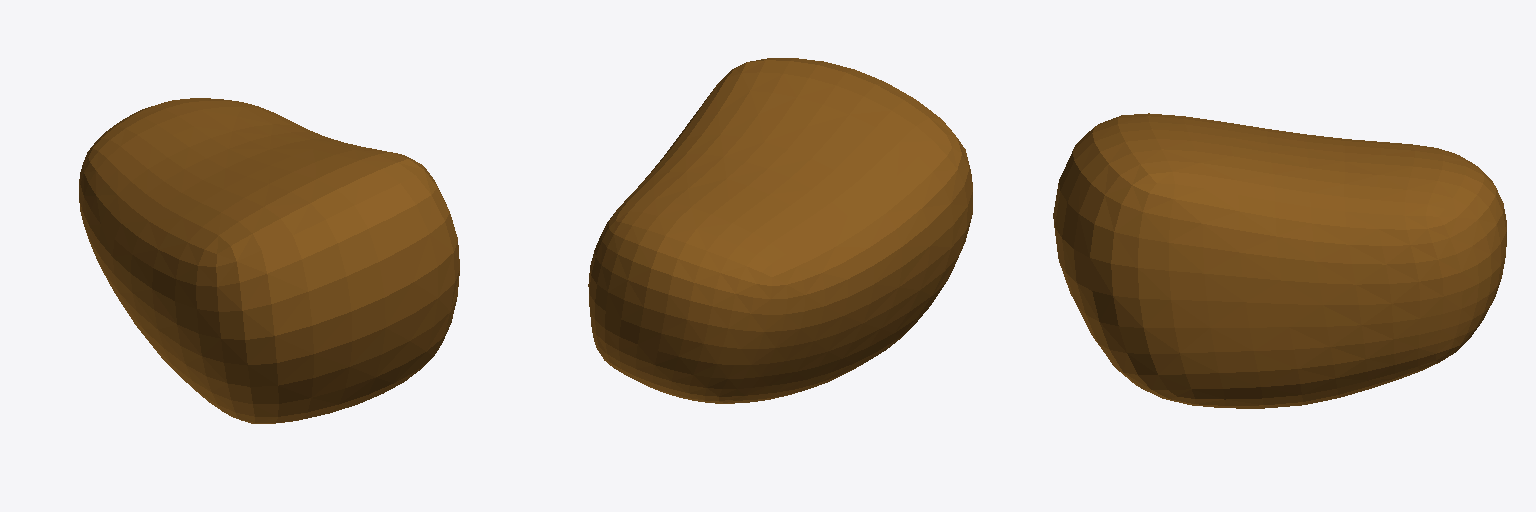
File: fing4_3.obj
3 renders of one model, left to right at view 1: azimuth 30°, elevation 25°; view 2: azimuth 150°, elevation 25°; view 3: azimuth 270°, elevation 25°, orthographic.
Parts seen in each view (by area): view 1: f4o3; view 2: f4o3; view 3: f4o3.
Part boxes in pixels (x1,y1,x2,y2): f4o3: (79, 98, 459, 423); f4o3: (588, 58, 972, 403); f4o3: (1053, 113, 1506, 408).
Bounding box in the file's own units: 0.6968 × 0.6413 × 1.03.